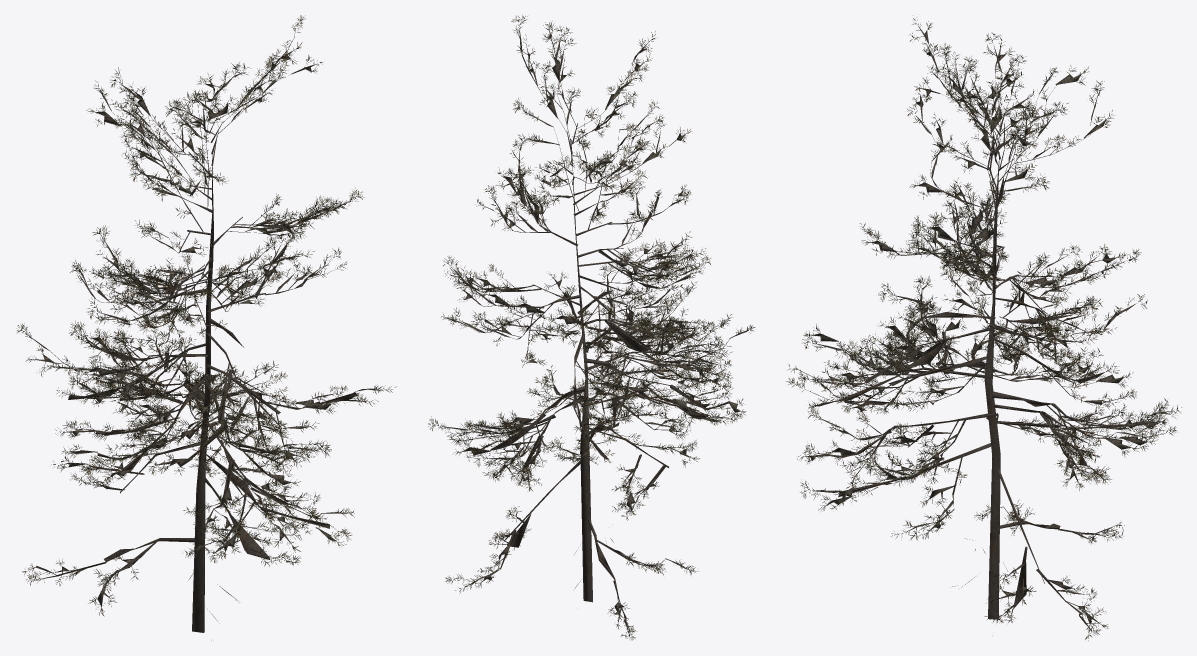
Rendered from pine_sapling_medium_b_LOD0.glb.
3 renders of one model, left to right at view 1: azimuth 30°, elevation 25°; view 2: azimuth 150°, elevation 25°; view 3: azimuth 270°, elevation 25°, orthographic. The views are drawn at different scales.
Parts seen in each view (by area): view 1: pine_sapling_medium_b_LOD0; view 2: pine_sapling_medium_b_LOD0; view 3: pine_sapling_medium_b_LOD0.
Boxes of the visible parts, box(x1,y1,x2,y2) form: pine_sapling_medium_b_LOD0: box(17, 15, 396, 640); pine_sapling_medium_b_LOD0: box(428, 15, 755, 640); pine_sapling_medium_b_LOD0: box(786, 18, 1181, 640).
Size of the model in its own units: 4.73 by 9.1 by 5.36.
3 materials, 3 textured.
